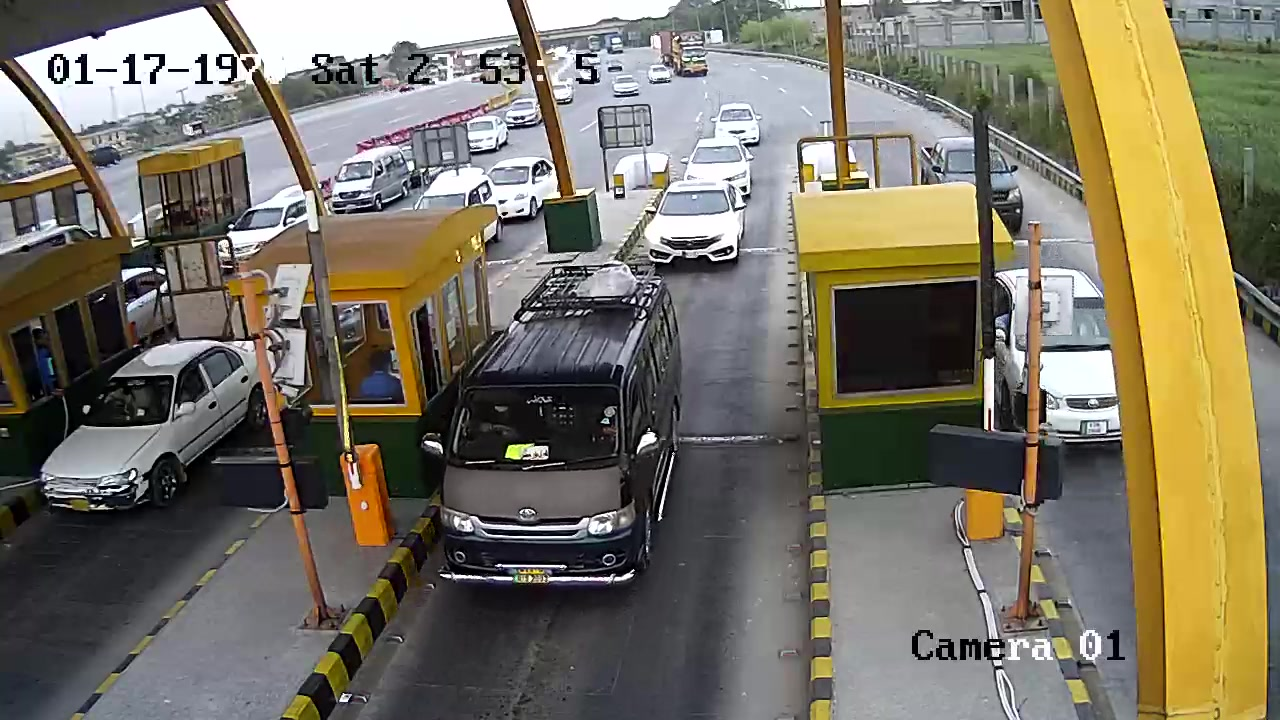F2: (435, 258, 705, 591)
